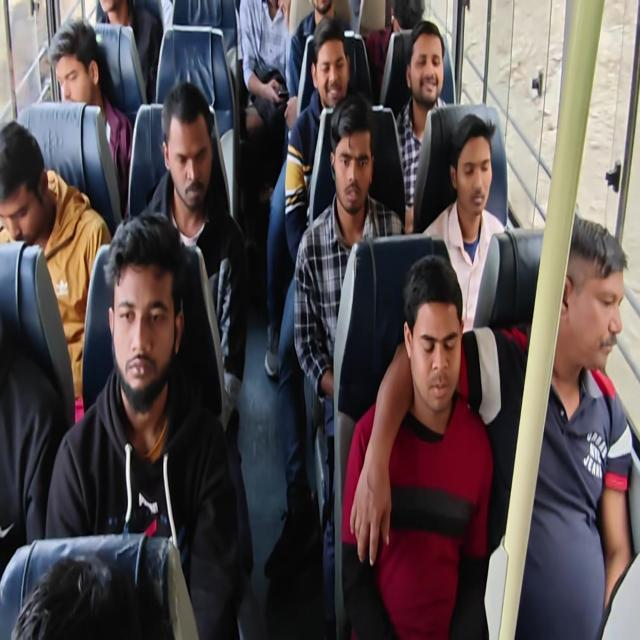person: (544, 228, 624, 376), (11, 576, 158, 640), (113, 236, 169, 380), (404, 279, 461, 410), (163, 92, 221, 217), (0, 125, 62, 239), (46, 21, 102, 108), (328, 110, 372, 214), (454, 128, 502, 216), (314, 38, 356, 103), (385, 0, 430, 50), (417, 32, 448, 104), (303, 0, 343, 27), (87, 0, 125, 20)
